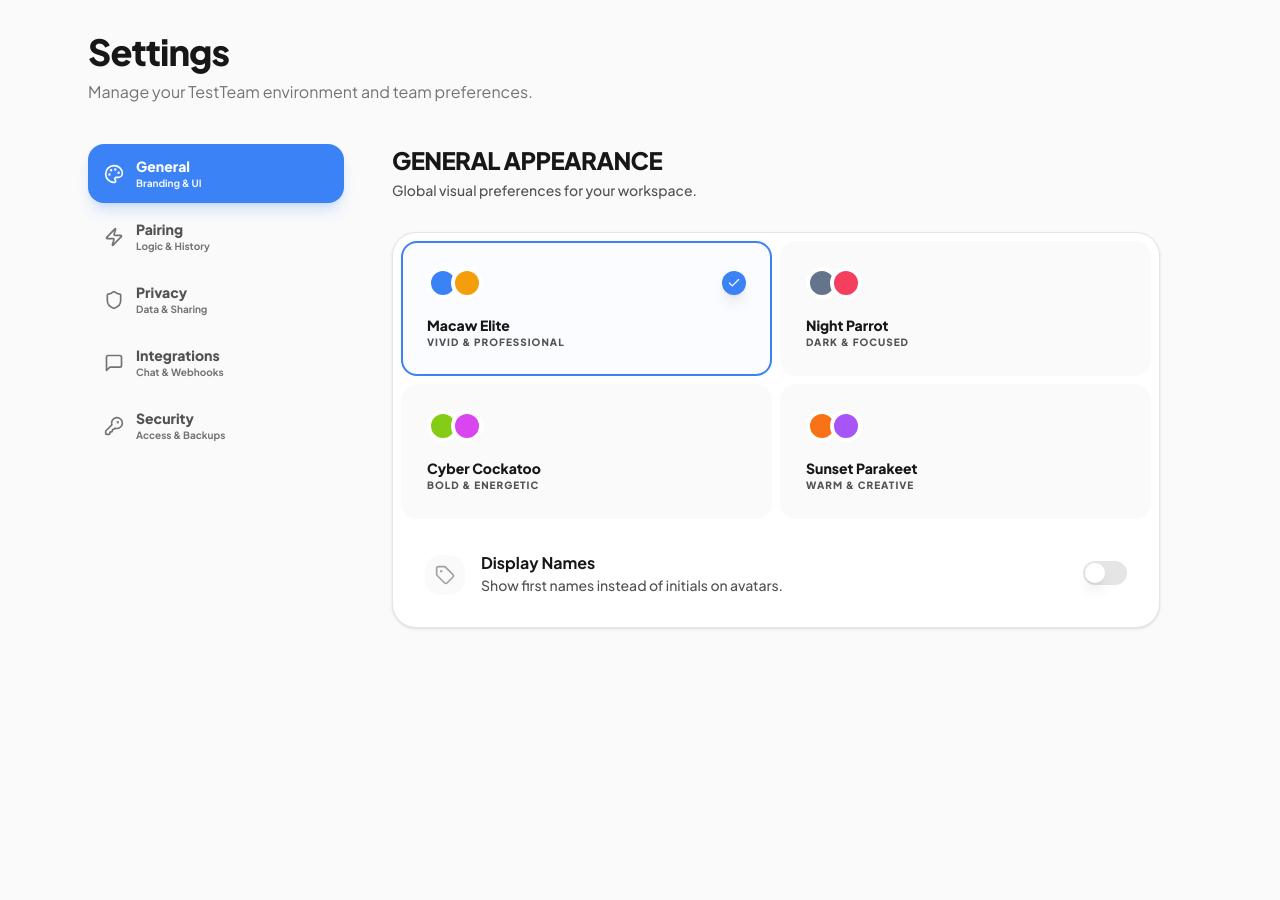
Test case: SettingsScreen Component › validates password mismatch
Click the text "Security" at [165, 418], box [136,409,194,427]
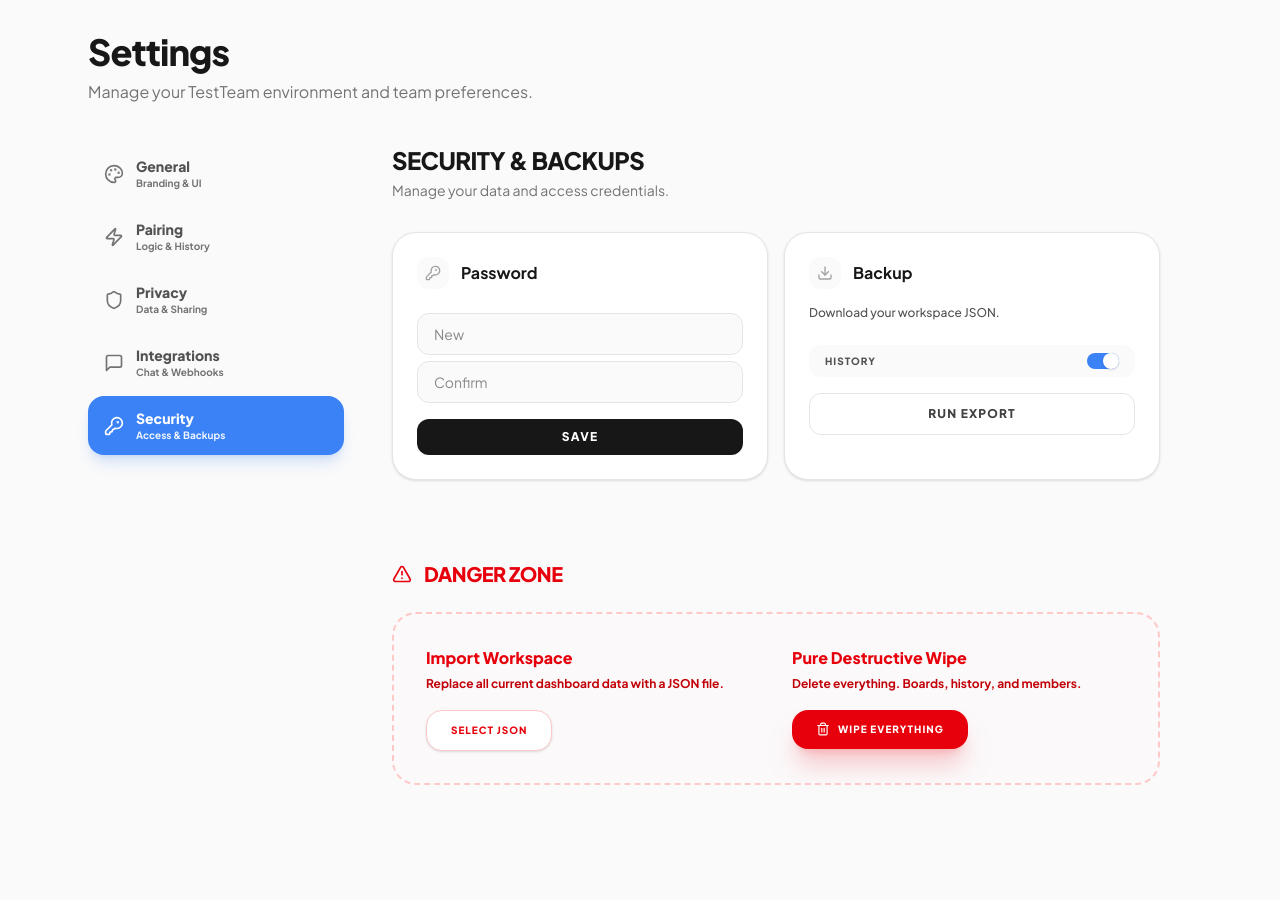
Type "pass1" into the password field with placeholder "New" at [580, 334], box [417,313,743,355]
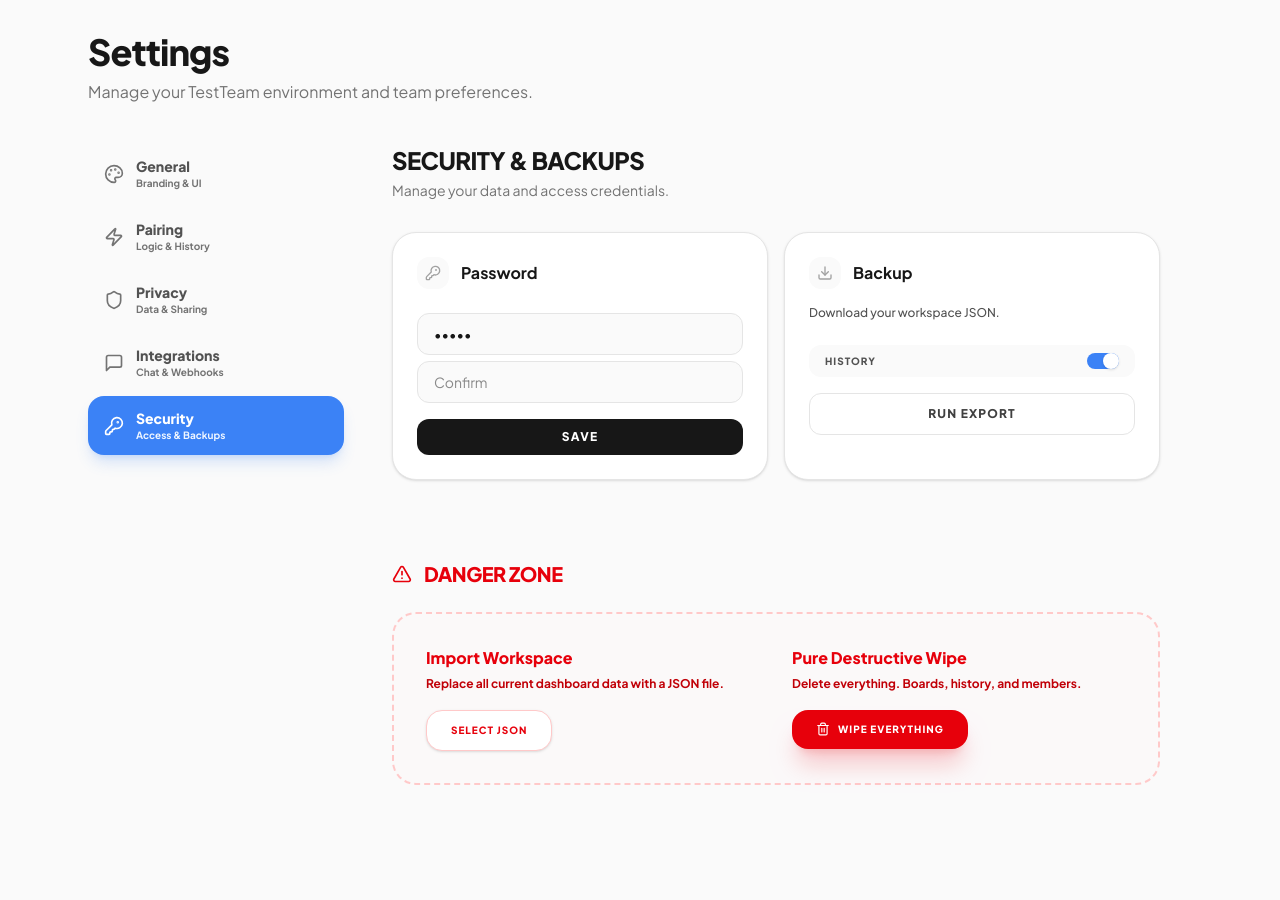
Type "pass2" into the password field with placeholder "Confirm" at [580, 382], box [417,361,743,403]
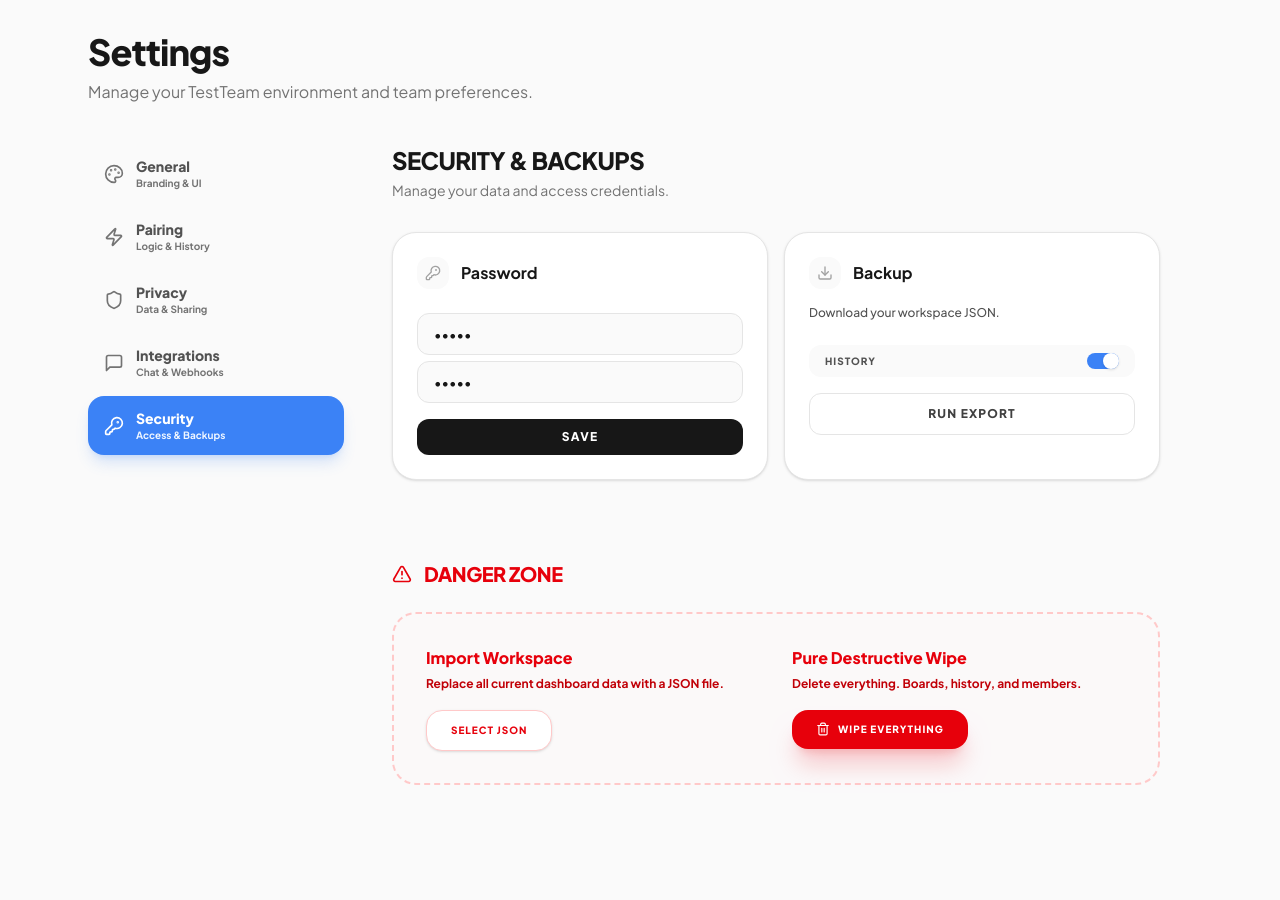
Click the button "Save" at [580, 437], box [417,419,743,455]
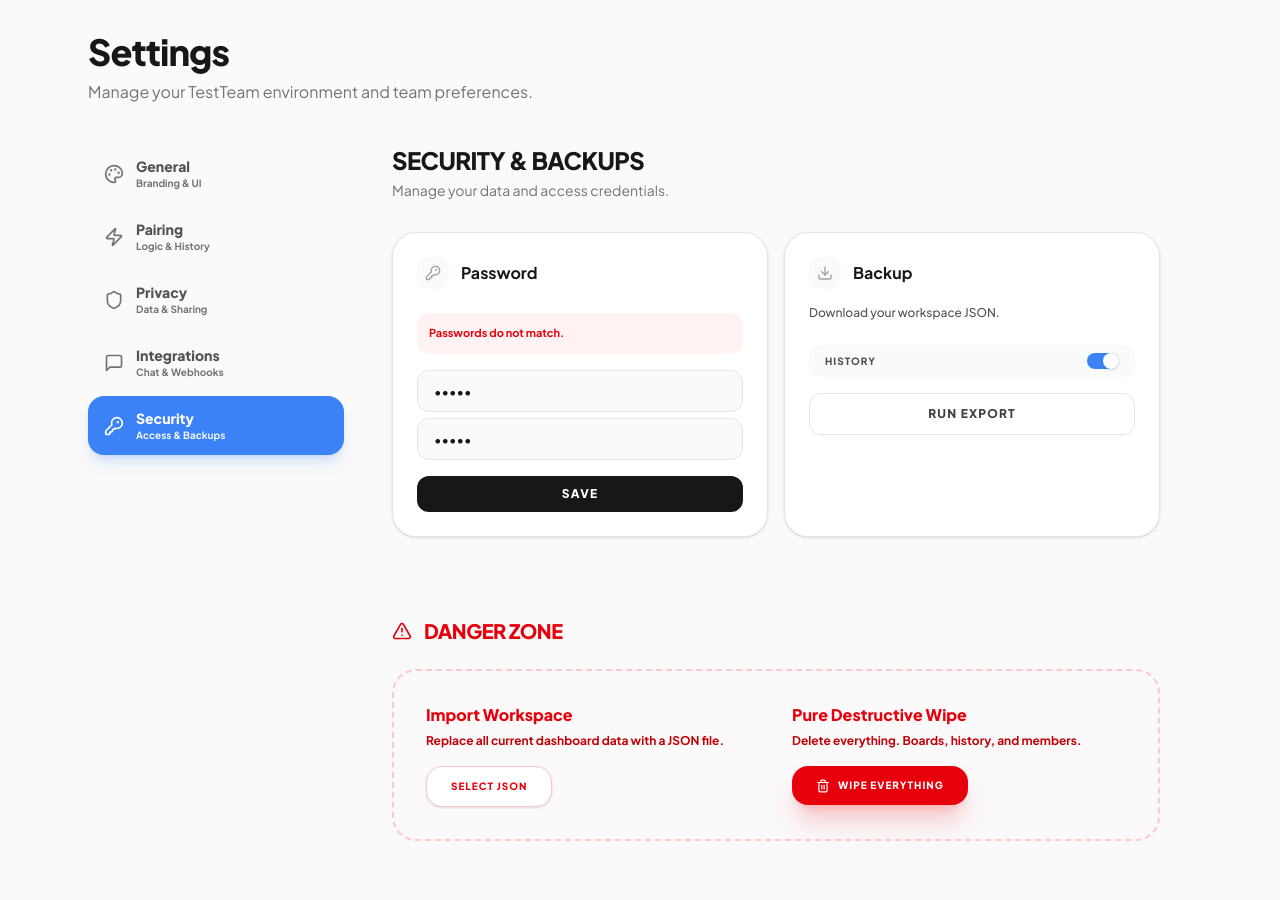
Now the text "Passwords do not match." is shown, box [417,313,743,354]
